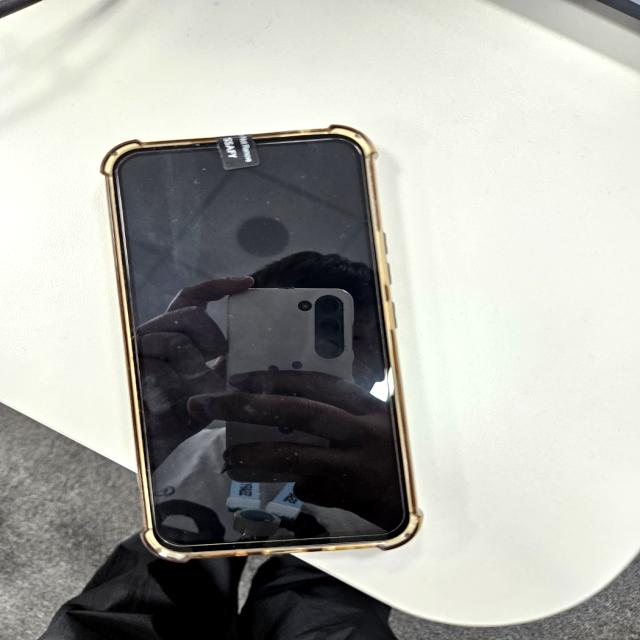phone: (104, 124, 425, 561)
sticker: (218, 135, 260, 170)
